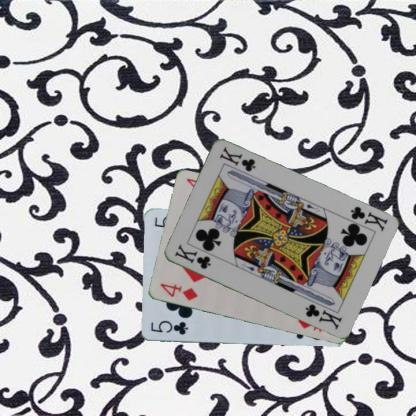4d: (157, 280, 199, 302)
5c: (148, 318, 189, 336)
Kc: (172, 242, 212, 271), (348, 204, 388, 233)
